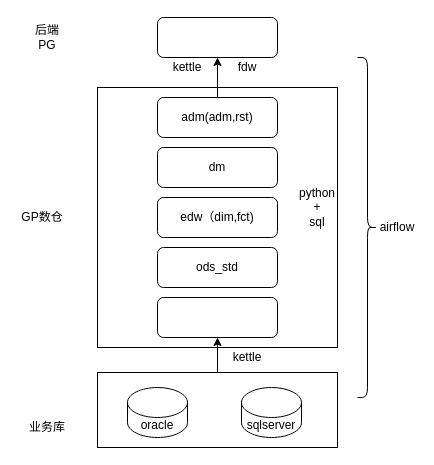
Image size: 434x465. Some labels were removed from this diagram. The shapes that lost their labels are listed below. From the top down, each one's centre as x and y in pixels, then its label:
At point (217, 37): "rst".
At point (217, 317): "ods".
